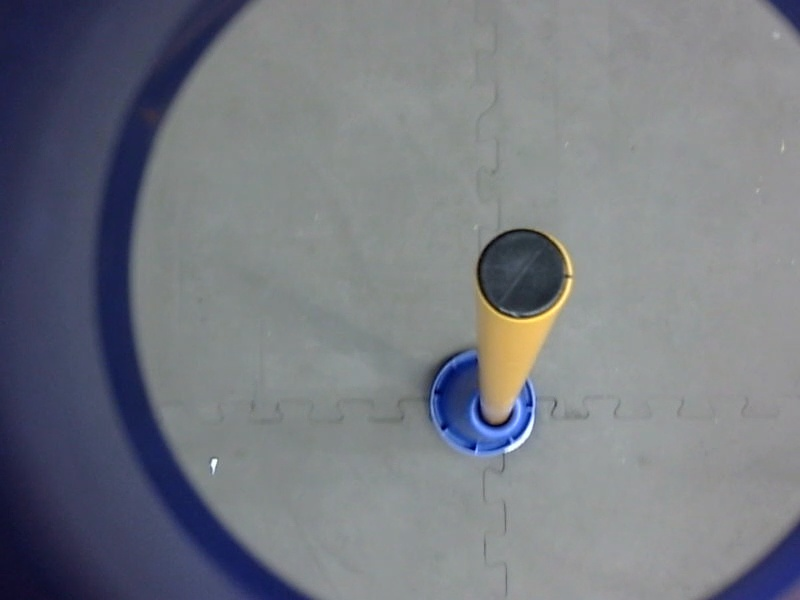tip: (468, 221, 582, 330)
